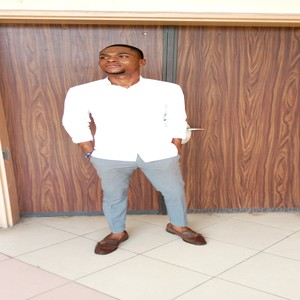Fulokoja_male_student: (82, 44, 194, 247)
